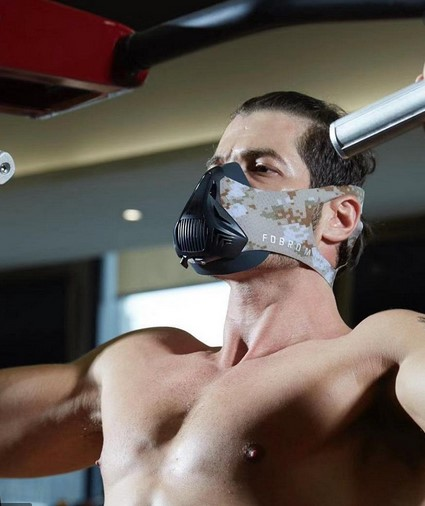face_with_mask: (172, 94, 373, 279)
